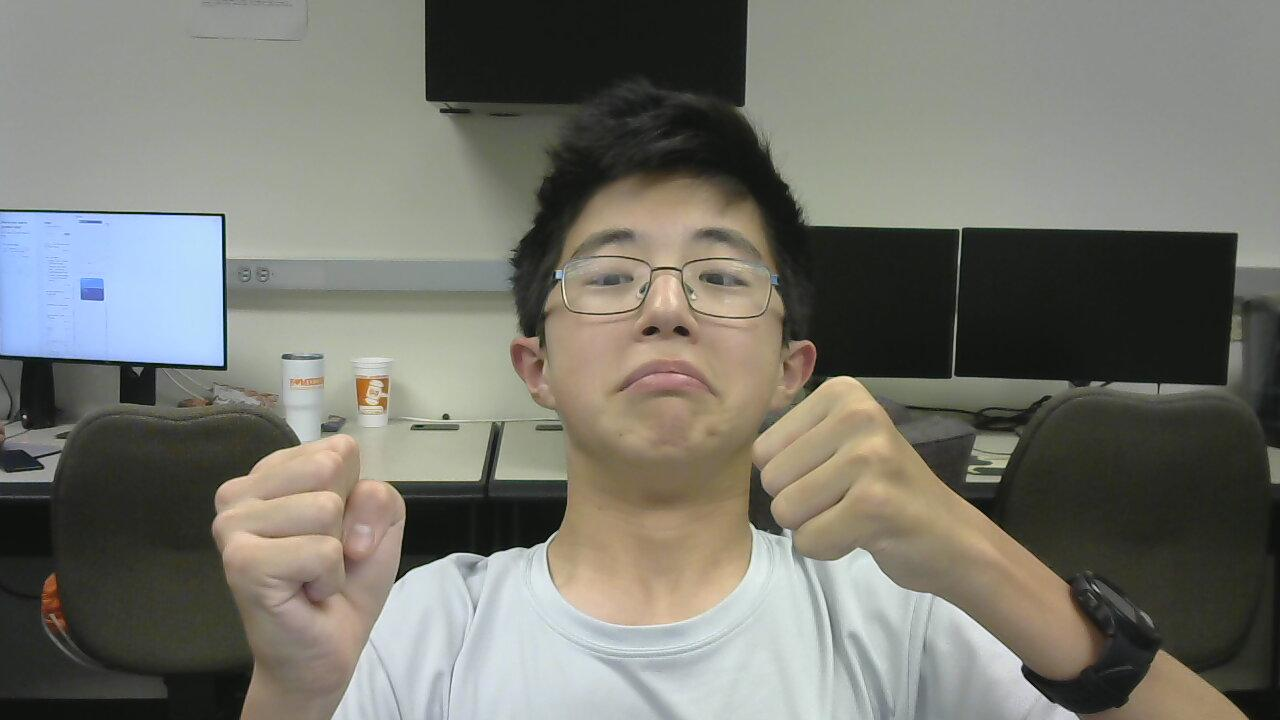fist: (741, 367, 982, 618), (196, 427, 419, 689)
